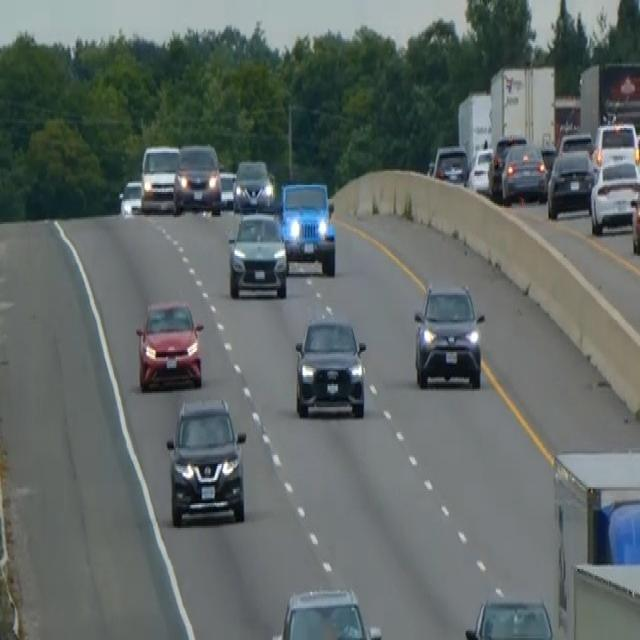car: (165, 395, 247, 526), (412, 279, 485, 389), (293, 314, 367, 420), (134, 297, 204, 391), (269, 585, 383, 638), (227, 210, 288, 298), (464, 594, 554, 638), (589, 155, 639, 233), (173, 142, 221, 215), (546, 148, 595, 218), (501, 140, 547, 204), (232, 156, 274, 214), (488, 134, 526, 196), (592, 119, 639, 169), (432, 142, 468, 185), (467, 144, 494, 194), (557, 128, 594, 156), (118, 178, 142, 217), (630, 174, 639, 256), (218, 169, 236, 208)
jeep: (277, 178, 337, 276)
lorry: (489, 62, 556, 156)
minivan: (139, 140, 181, 213)
